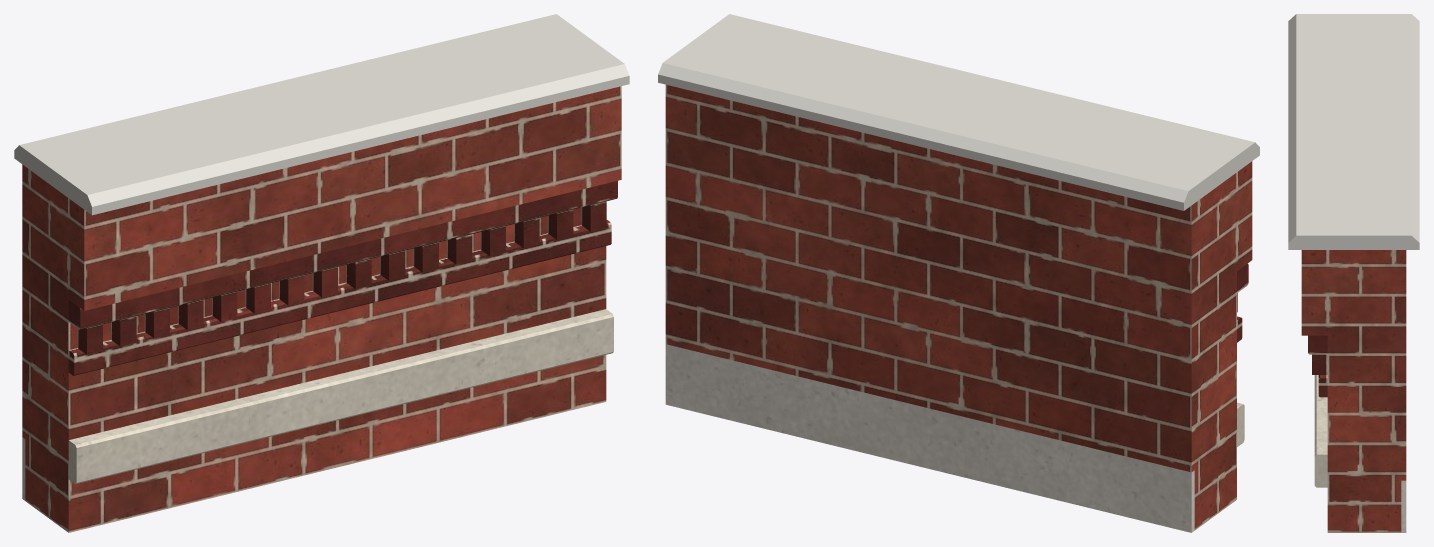
File: o_parapet.glb
3 renders of one model, left to right at view 1: azimuth 30°, elevation 25°; view 2: azimuth 150°, elevation 25°; view 3: azimuth 270°, elevation 25°, orthographic. The views are drawn at different scales.
Parts seen in each view (by area): view 1: o_parapet_brick, o_parapet_coping, o_parapet_brick2, o_parapet_trim; view 2: o_parapet_brick, o_parapet_coping, o_parapet_plaster; view 3: o_parapet_coping, o_parapet_brick, o_parapet_trim, o_parapet_brick2, o_parapet_plaster.
Part boxes in pixels (x1,y1,x2,y2): o_parapet_brick: (22,86,621,532); o_parapet_coping: (14,14,629,215); o_parapet_brick2: (68,181,617,375); o_parapet_trim: (68,309,613,484); o_parapet_brick: (665,84,1252,530); o_parapet_coping: (658,14,1259,210); o_parapet_plaster: (665,344,1194,532); o_parapet_coping: (1288,14,1419,249); o_parapet_brick: (1301,250,1406,532); o_parapet_trim: (1314,375,1327,487); o_parapet_brick2: (1308,335,1327,397); o_parapet_plaster: (1401,480,1406,532).
Bounding box in the file's own units: 2 × 1.25 × 0.5.
5 materials, 4 textured.
